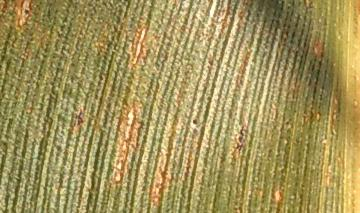tarspot: (187, 113, 200, 128)
